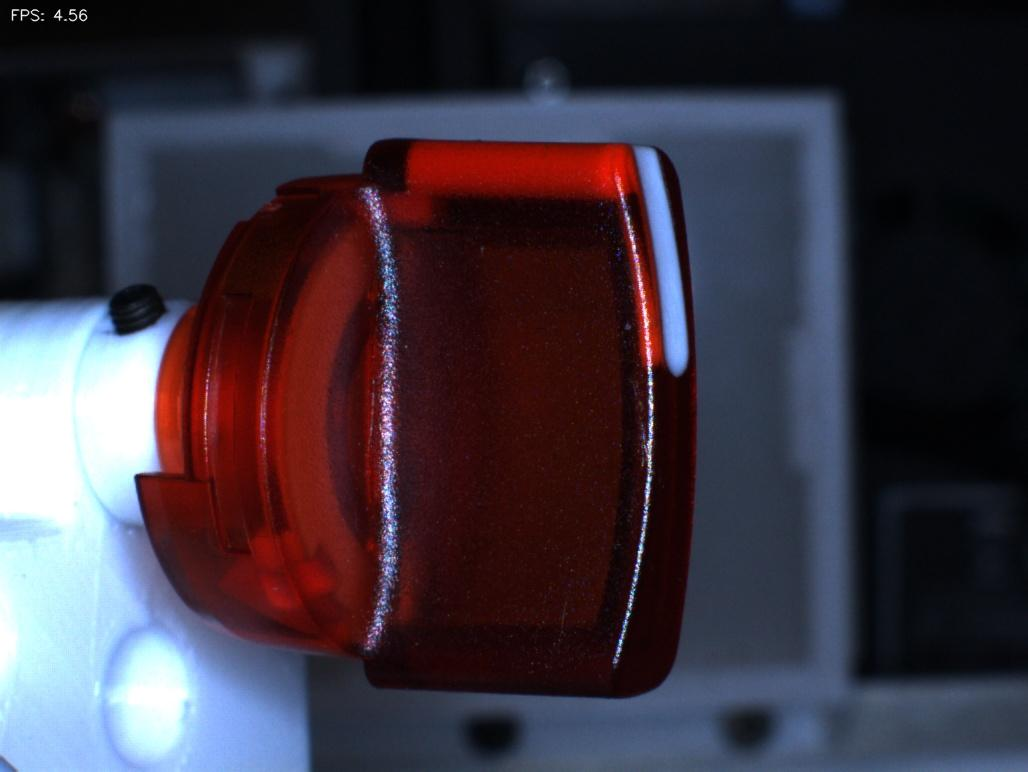Givrage: (519, 542, 598, 675), (602, 381, 673, 496)
